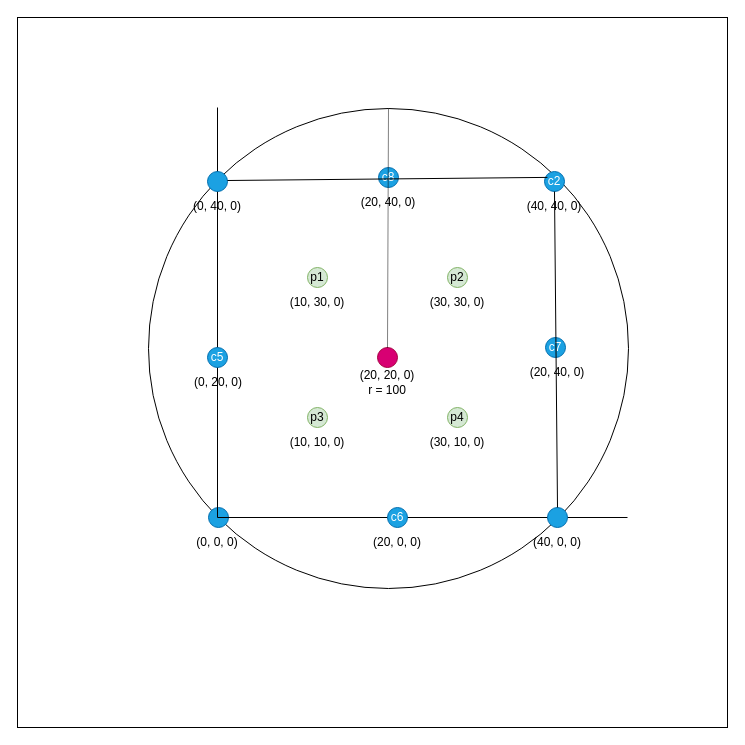
This 745x745 diagram has some shape labels left out. Here are the shapes that lost their labels. From the top down, the centre of each, then its label:
At [217,181]: "c3".
At [387,357]: "AP".
At [218,517]: "c1".
At [557,517]: "c4".
